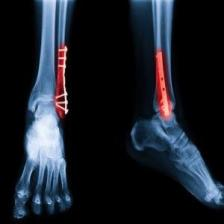open-compound-fracture: (16, 0, 223, 221)
